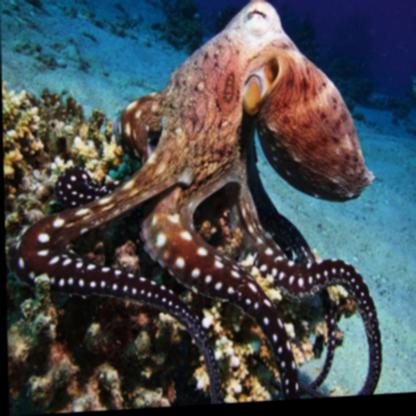Squid: (9, 0, 383, 415)
